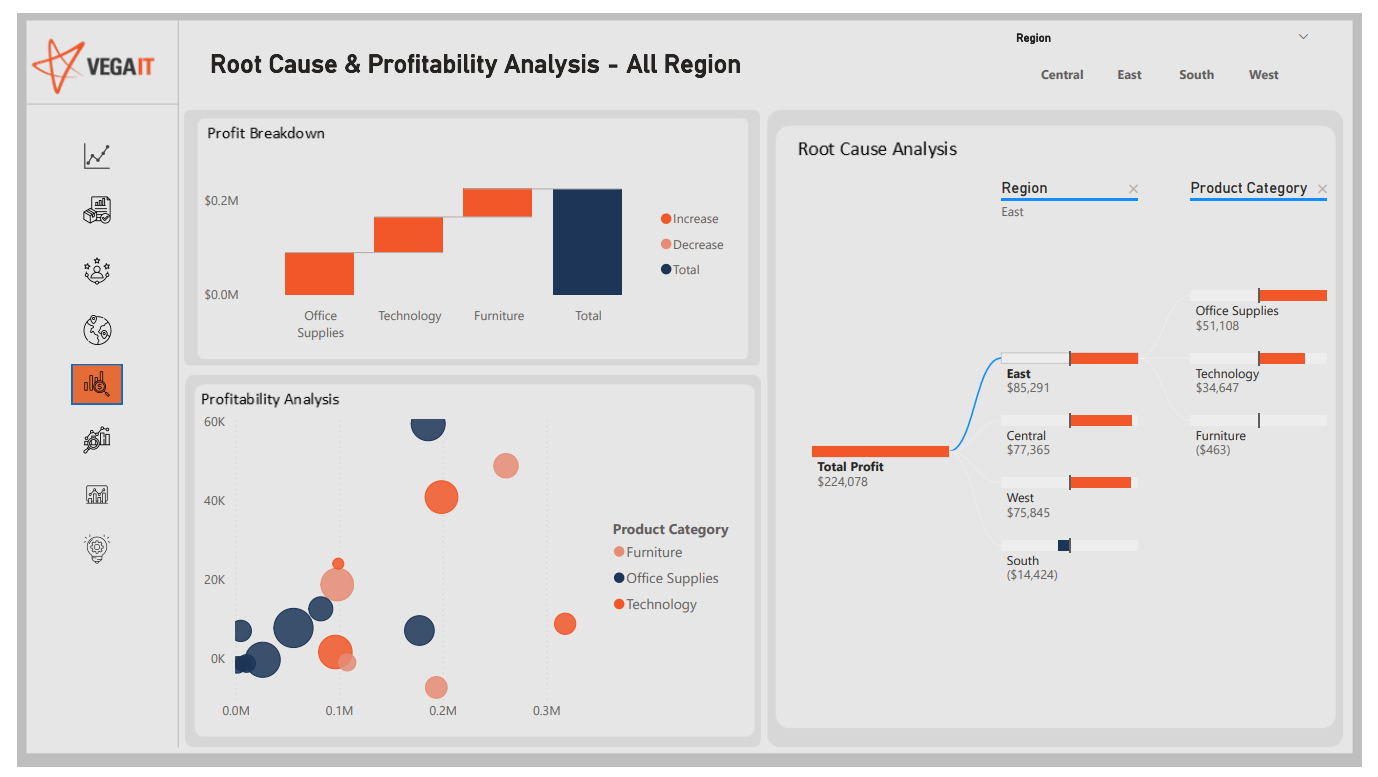

This screenshot's page, from the dashboard's own definition file:
{"tool":"powerbi","page":{"name":"Root Cause & Profitability Analysis","canvas":[1280,720],"ordinal":4},"visuals":[{"type":"decompositionTreeVisual","fields":{"Analyze":["Measure.Total Profit"],"ExplainBy":["VegaIT_clean_superstore_data.Region","VegaIT_clean_superstore_data.Product Category","VegaIT_clean_superstore_data.Customer Segment","VegaIT_clean_superstore_data.Ship Mode","VegaIT_clean_superstore_data.Product Sub-Category"]},"box":[726.7,141.7,526.7,530],"z":0},{"type":"shape","box":[52.4,334.9,47.6,38.1],"z":1000},{"type":"image","box":[58,119.2,35.9,35.9],"z":2000},{"type":"scatterChart","fields":{"Size":["Sum(VegaIT_clean_superstore_data.Quantity ordered new)"],"Category":["VegaIT_clean_superstore_data.Product Sub-Category"],"Series":["VegaIT_clean_superstore_data.Product Category"],"X":["Sum(VegaIT_clean_superstore_data.Sales)"],"Y":["Sum(VegaIT_clean_superstore_data.Profit)"]},"box":[173.3,375,525,308.3],"z":3000},{"type":"image","box":[58,167.5,35.9,39.1],"z":4000},{"type":"waterfallChart","fields":{"Category":["VegaIT_clean_superstore_data.Product Category"],"Y":["Measure.Total Profit"]},"box":[173.3,120,513.3,200],"z":5000},{"type":"slicer","fields":{"Values":["VegaIT_clean_superstore_data.Region"]},"box":[938.3,13.3,303.3,76.7],"z":6000},{"type":"image","box":[58,219,35.9,53.1],"z":7000},{"type":"image","box":[58,333.3,35.9,40.6],"z":8000},{"type":"card","fields":{"Values":["Measure.Root Cause & Profitability Analysis"]},"box":[165.4,12.7,542.4,70],"z":9000},{"type":"image","box":[57.7,386.4,36.5,41.3],"z":10000},{"type":"image","box":[60.1,440,31.7,36.5],"z":11000},{"type":"image","box":[56.9,488.9,38.1,42.9],"z":12000},{"type":"image","box":[55.4,284.5,41.3,36.5],"z":13000}]}

Visuals, with their boxes on the page's 1280x720 design canvas (x1, y1, x2, y2). These are canvas units, not pixel positions in the 1378x777 screenshot, which may show the page scaled, cropped or inside an application window:
decompositionTreeVisual - Measure.Total Profit x VegaIT_clean_superstore_data.Region: pyautogui.locateOnScreen(727, 142, 1253, 672)
shape: pyautogui.locateOnScreen(52, 335, 100, 373)
image: pyautogui.locateOnScreen(58, 119, 94, 155)
scatterChart - Sum(VegaIT_clean_superstore_data.Quantity ordered new) x VegaIT_clean_superstore_data.Product Sub-Category: pyautogui.locateOnScreen(173, 375, 698, 683)
image: pyautogui.locateOnScreen(58, 168, 94, 207)
waterfallChart - VegaIT_clean_superstore_data.Product Category x Measure.Total Profit: pyautogui.locateOnScreen(173, 120, 687, 320)
slicer - VegaIT_clean_superstore_data.Region: pyautogui.locateOnScreen(938, 13, 1242, 90)
image: pyautogui.locateOnScreen(58, 219, 94, 272)
image: pyautogui.locateOnScreen(58, 333, 94, 374)
card - Measure.Root Cause & Profitability Analysis: pyautogui.locateOnScreen(165, 13, 708, 83)
image: pyautogui.locateOnScreen(58, 386, 94, 428)
image: pyautogui.locateOnScreen(60, 440, 92, 476)
image: pyautogui.locateOnScreen(57, 489, 95, 532)
image: pyautogui.locateOnScreen(55, 284, 97, 321)
